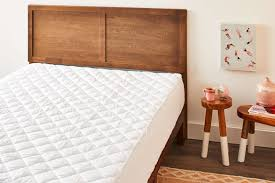bed-matress: (1, 68, 185, 183)
